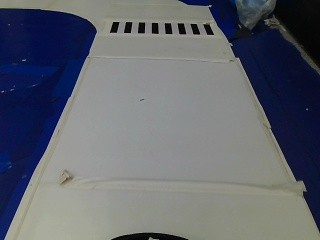crosswalk: (102, 18, 218, 38)
